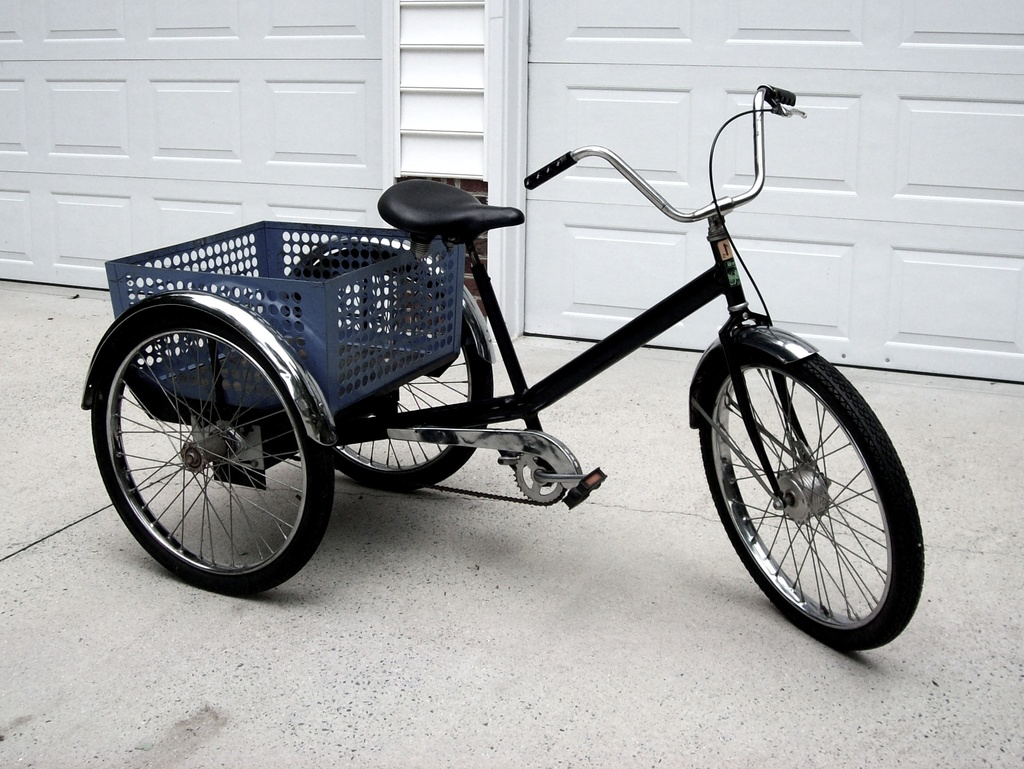Bike: (175, 127, 941, 665)
